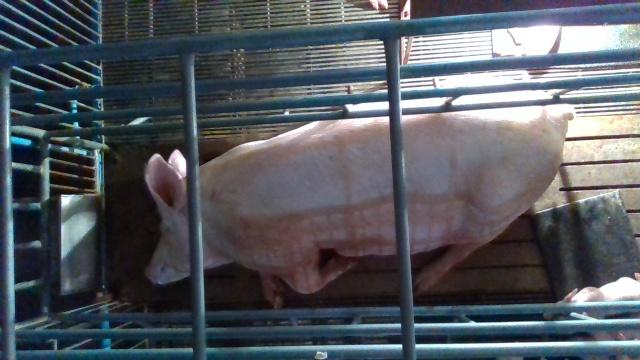piglet: (544, 271, 640, 319)
sow-sleep: (146, 91, 576, 308)
